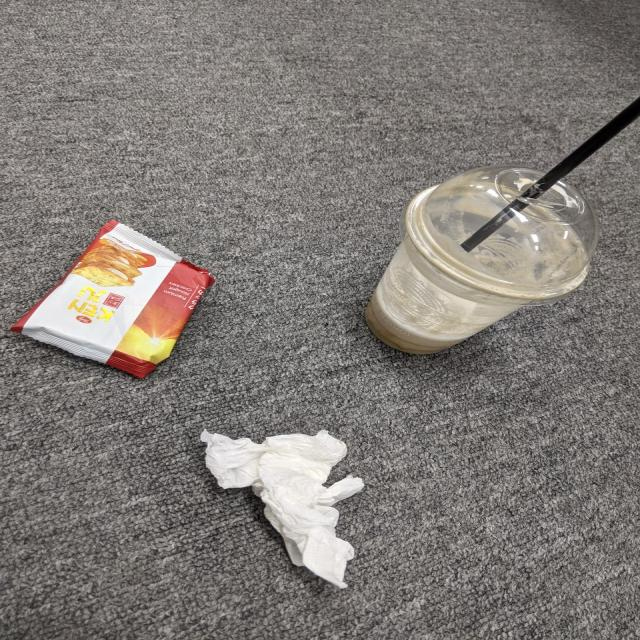drinking straw: (461, 96, 640, 254)
napkin: (199, 428, 366, 590)
plastic glass: (366, 165, 598, 353)
snack package: (9, 220, 217, 379)
